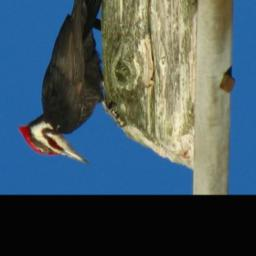Woodpecker: (13, 0, 121, 164)
